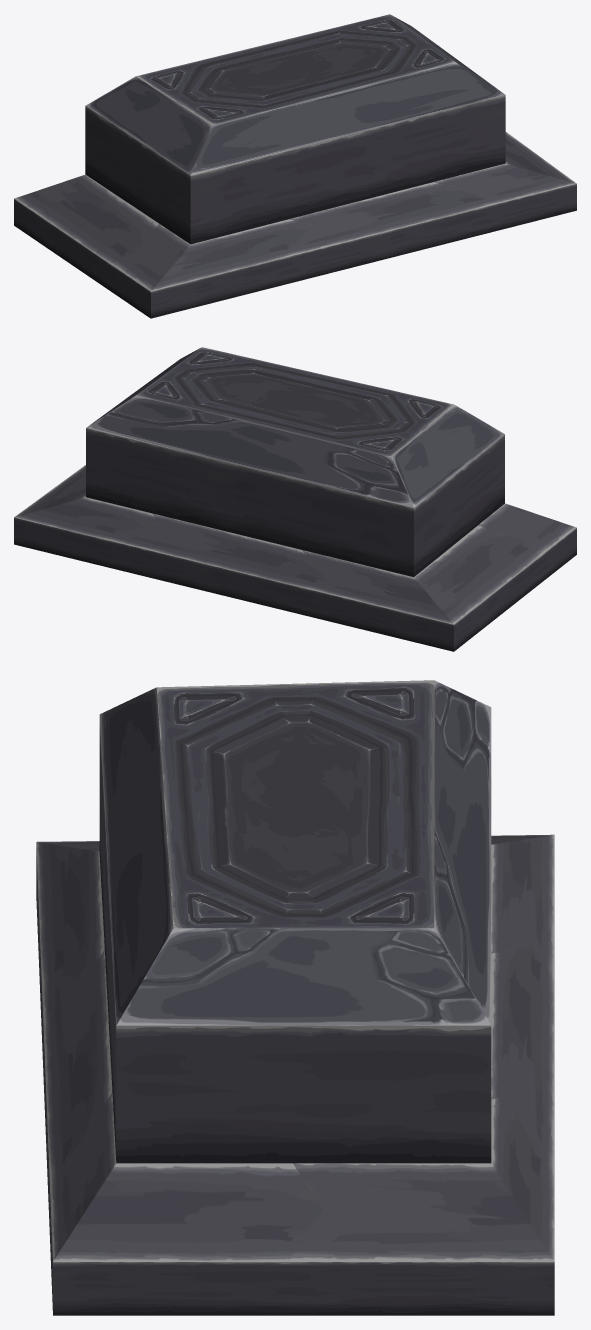
Rendered from SM_PROP_gravestone_base_dungeon_02.fbx.
3 views of the same model, one above another, from view 1: azimuth 30°, elevation 25°; view 2: azimuth 150°, elevation 25°; view 3: azimuth 270°, elevation 25° (orthographic). The views are drawn at different scales.
Visible parts, largest first — view 1: SM_PROP_gravestone_base_dungeon_02; view 2: SM_PROP_gravestone_base_dungeon_02; view 3: SM_PROP_gravestone_base_dungeon_02.
Part boxes in pixels (x1,y1,x2,y2): SM_PROP_gravestone_base_dungeon_02: [14, 14, 576, 318]; SM_PROP_gravestone_base_dungeon_02: [14, 347, 576, 651]; SM_PROP_gravestone_base_dungeon_02: [36, 680, 554, 1315].
Bounding box in the file's own units: 123 × 40 × 63.08.
